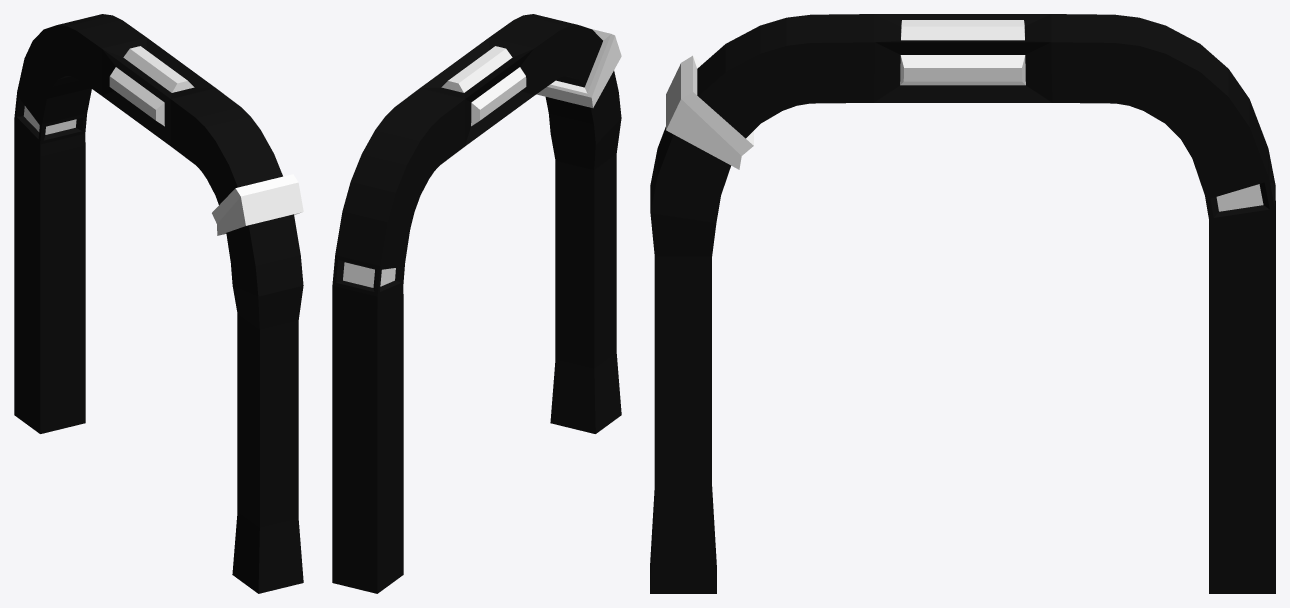
Rendered from Portal.fbx.
3 renders of one model, left to right at view 1: azimuth 30°, elevation 25°; view 2: azimuth 150°, elevation 25°; view 3: azimuth 270°, elevation 25°, orthographic. The views are drawn at different scales.
Visible parts, largest first — view 1: Portal; view 2: Portal; view 3: Portal.
Boxes of the visible parts, <box> form: Portal: <box>14,14,303,593</box>; Portal: <box>332,14,621,593</box>; Portal: <box>650,14,1275,593</box>.
Bounding box in the file's own units: 85.74 × 608 × 620.
